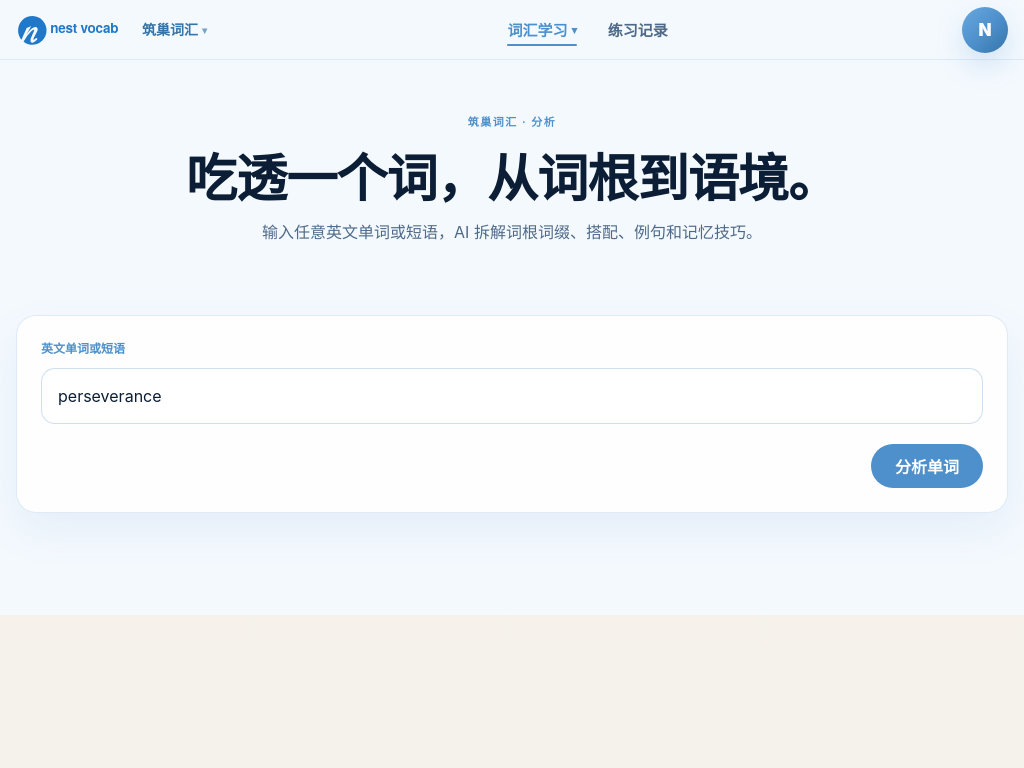
Test: VocabAnalyzerPage › saves a favorite for a logged-in user
Click the button "分析单词": (927, 466) [871, 444, 983, 488]
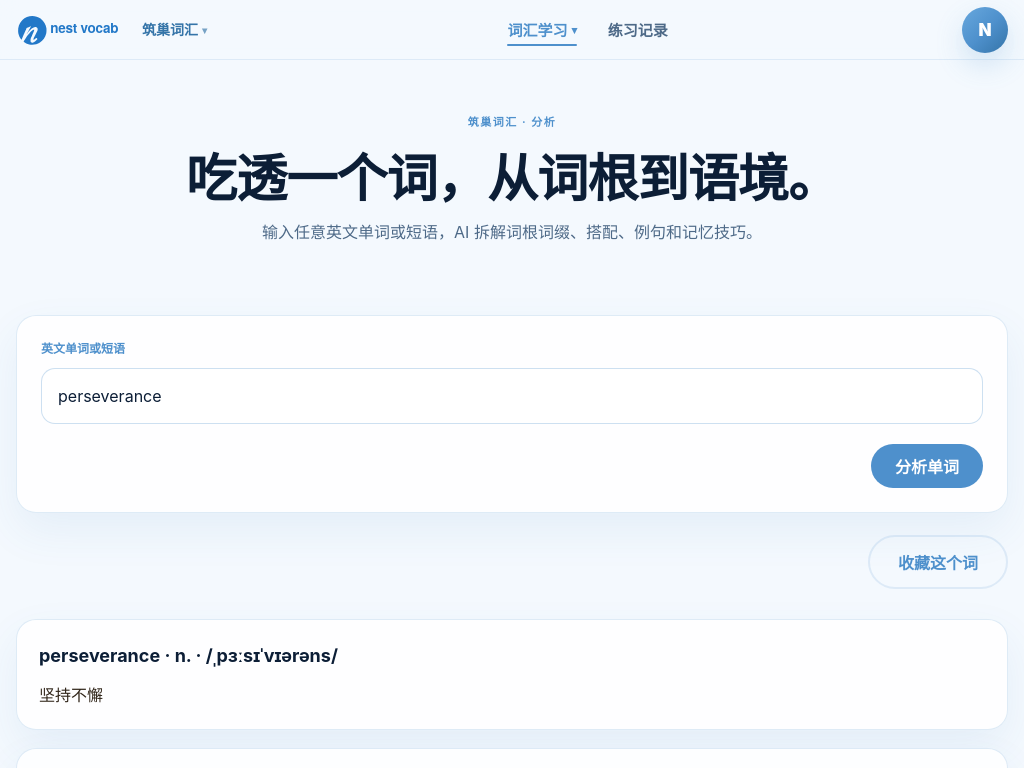
Expected: the text "坚持不懈" is shown, [39, 685, 103, 705]
Click the button "收藏这个词": (938, 562) [868, 535, 1008, 589]
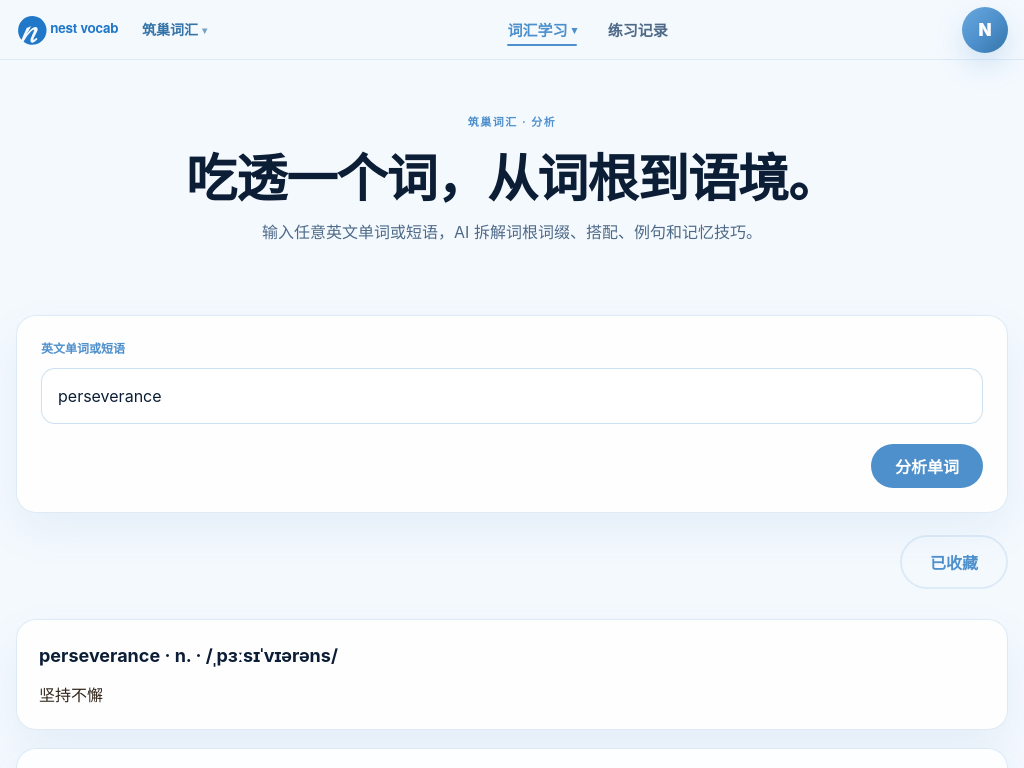
Expected: the button "已收藏" is shown, [900, 535, 1008, 589]
